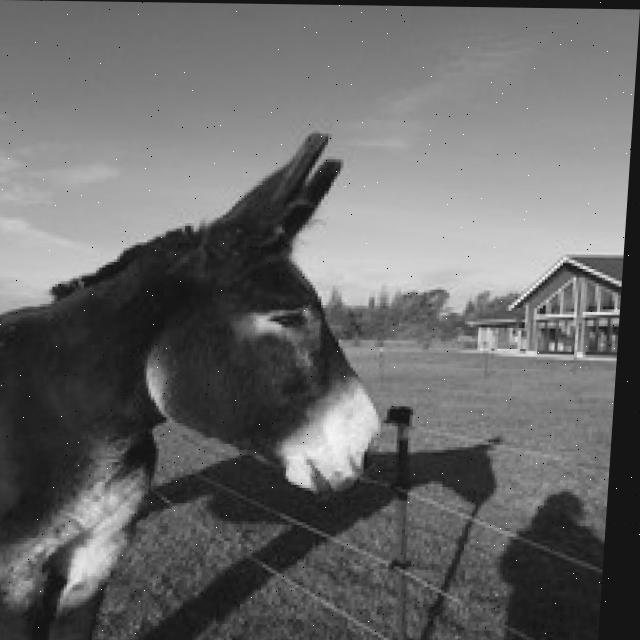Donkey: (0, 123, 401, 640)
